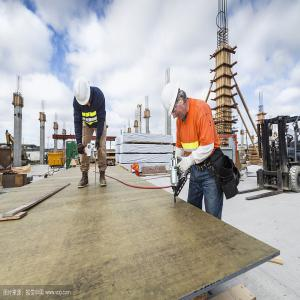white: (160, 80, 189, 123), (74, 78, 92, 109)
